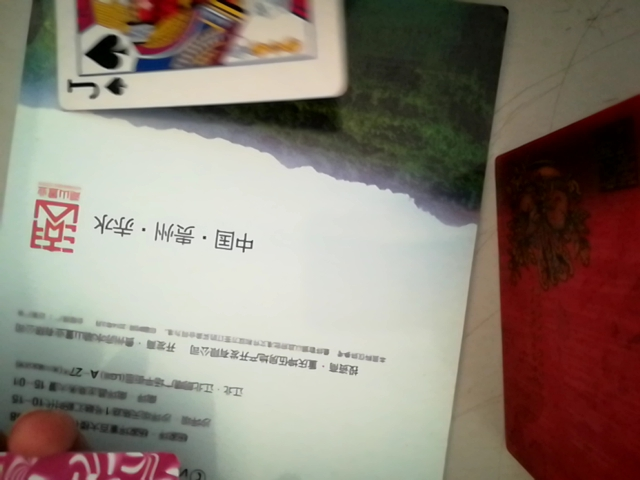ht j: (32, 2, 350, 116)
